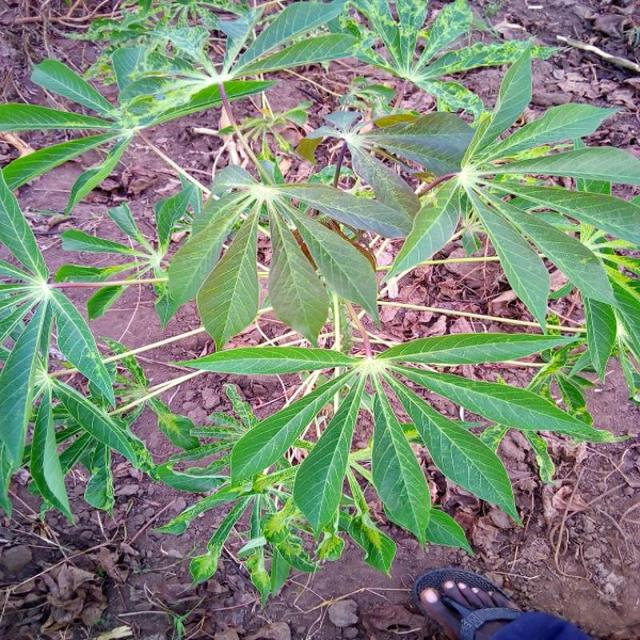cassava leaf: (2, 1, 639, 602)
